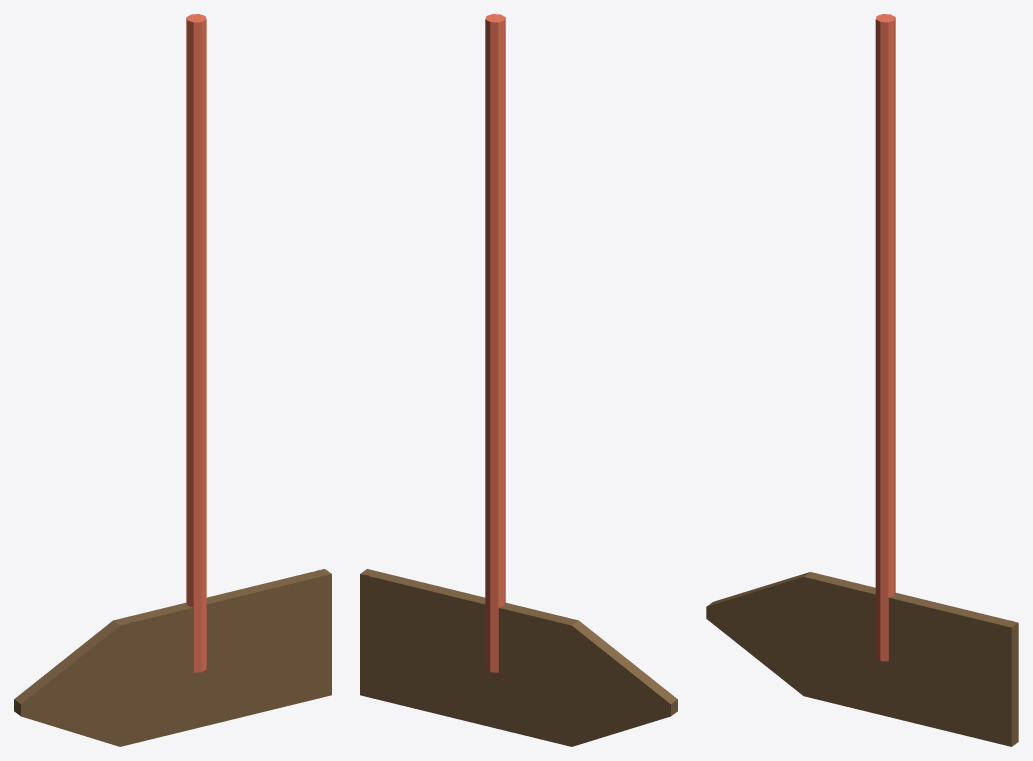
Rendered from NagivationSign.fbx.
3 views of the same model, side by side, from view 1: azimuth 30°, elevation 25°; view 2: azimuth 150°, elevation 25°; view 3: azimuth 330°, elevation 25° (orthographic).
Parts seen in each view (by area): view 1: Pole, Sign; view 2: Pole, Sign; view 3: Pole, Sign.
Part boxes in pixels (x1,y1,x2,y2): Pole: (14, 569, 331, 746); Sign: (186, 14, 206, 672); Pole: (360, 569, 677, 746); Sign: (485, 14, 505, 672); Pole: (706, 572, 1018, 746); Sign: (875, 14, 895, 661).
Size of the model in its own units: 1.51 by 3.29 by 0.0881.
